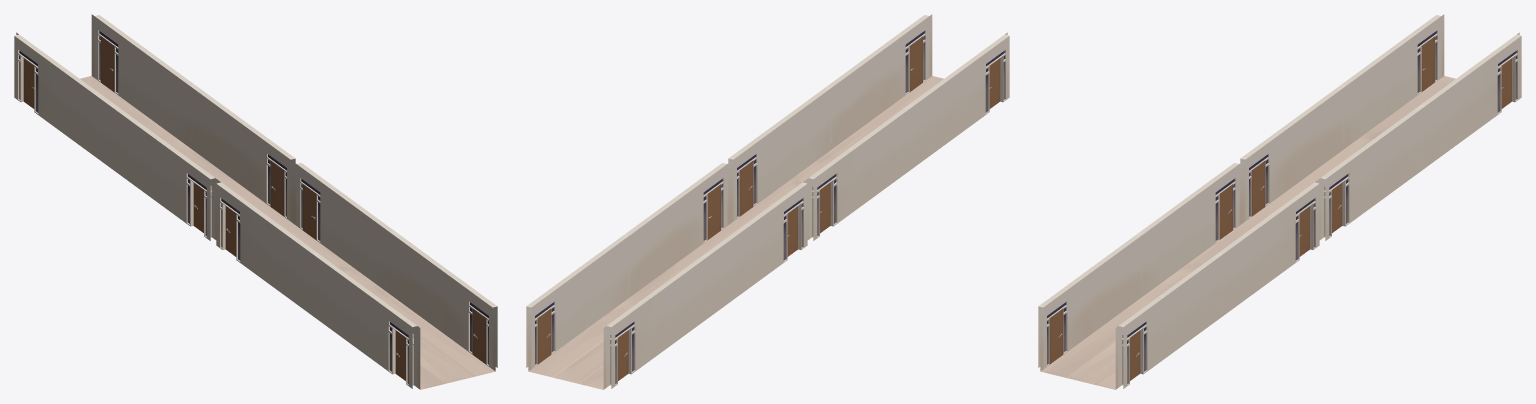
The model's file is corridor5.fbx.
The picture shows the model from 3 angles, left to right: view 1: azimuth 30°, elevation 25°; view 2: azimuth 150°, elevation 25°; view 3: azimuth 330°, elevation 25°; orthographic projection.
Visible parts, largest first — view 1: wall003.017, wall003.020, wall003.019, wall003.018, Plane.005, Cube.012, door.026, door.025, door.027, Cube.011, Cube.013, door.024 (+1 smaller); view 2: wall003.020, wall003.017, wall003.018, wall003.019, Plane.005, door.025, door.027, Cube.012, door.026, door.024, Cube.013, Cube.011 (+1 smaller); view 3: wall003.019, wall003.018, wall003.017, wall003.020, Plane.005, door.029, door.024, Cube.013, Cube.011, door.025, door.026, Cube.012 (+1 smaller).
Boxes of the visible parts, x1,y1,x2,y2 form: wall003.017: (216, 180, 420, 389); wall003.020: (14, 32, 218, 240); wall003.019: (293, 162, 497, 371); wall003.018: (91, 14, 295, 223); Plane.005: (80, 76, 494, 389); Cube.012: (472, 308, 486, 364); door.026: (270, 161, 284, 216); door.025: (101, 36, 114, 91); door.027: (303, 184, 316, 239); Cube.011: (23, 58, 34, 108); Cube.013: (225, 206, 236, 256); door.024: (395, 330, 405, 380); wall003.020: (603, 180, 807, 389); wall003.017: (805, 32, 1009, 240); wall003.018: (526, 162, 730, 371); wall003.019: (728, 14, 932, 223); Plane.005: (529, 76, 943, 389); door.025: (537, 308, 551, 364); door.027: (739, 161, 753, 216); Cube.012: (909, 36, 922, 91); door.026: (707, 184, 720, 239); door.024: (989, 58, 1000, 108); Cube.013: (820, 182, 830, 233); Cube.011: (618, 330, 628, 380); wall003.019: (1115, 180, 1319, 389); wall003.018: (1317, 32, 1521, 240); wall003.017: (1038, 162, 1242, 371); wall003.020: (1240, 14, 1444, 223); Plane.005: (1041, 76, 1455, 389); door.029: (1251, 161, 1265, 216); door.024: (1049, 309, 1063, 364); Cube.013: (1219, 184, 1232, 239); Cube.011: (1421, 36, 1434, 91); door.025: (1501, 58, 1511, 108); door.026: (1332, 183, 1342, 232); Cube.012: (1130, 330, 1140, 380).
Size of the model in its own units: 170 by 118 by 1400.
3 materials, 3 textured.
